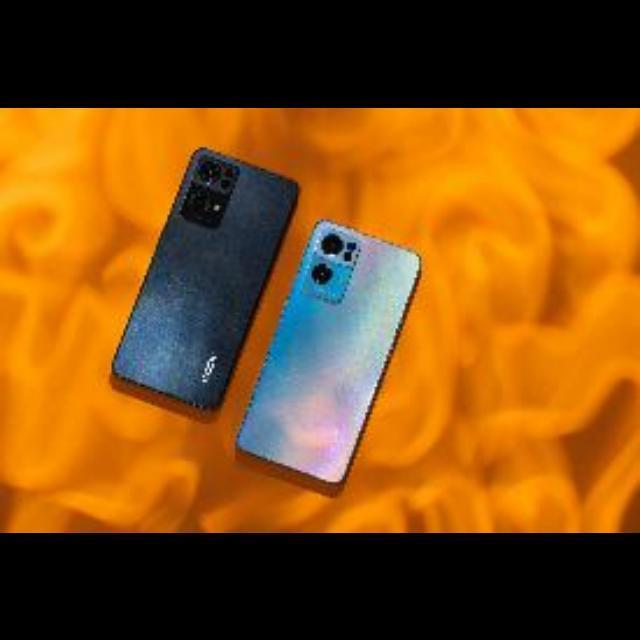PhoneUse: (112, 144, 298, 410), (236, 220, 419, 482)
